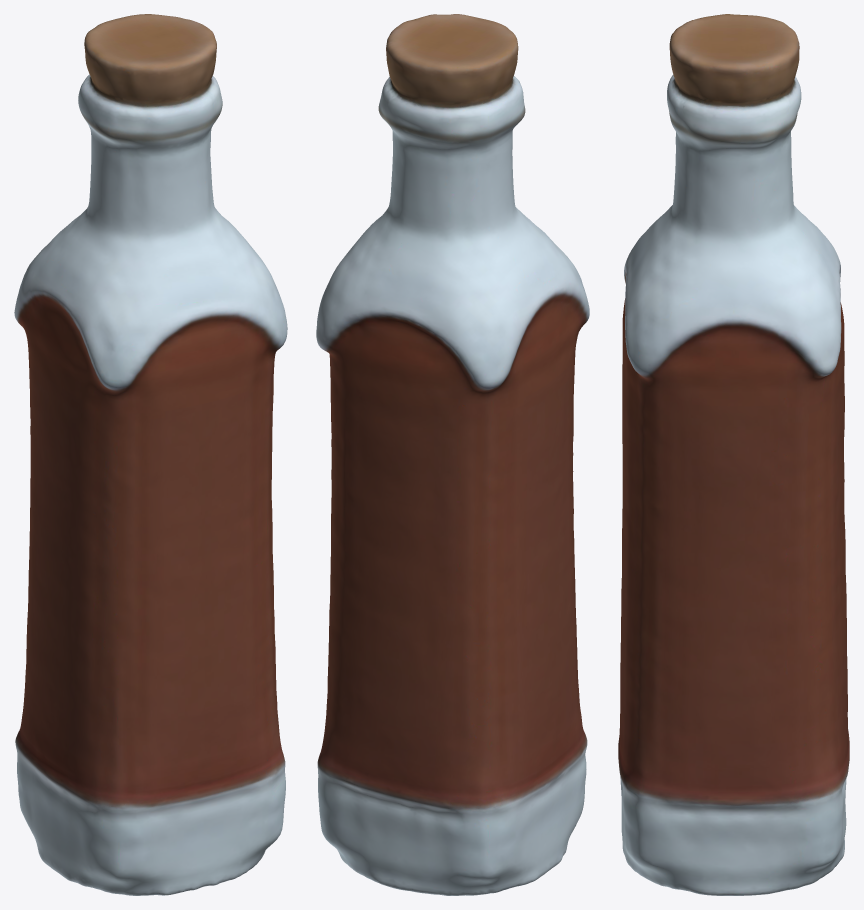
The model's file is luma-glass-bottle-8.glb.
3 views of the same model, side by side, from view 1: azimuth 30°, elevation 25°; view 2: azimuth 150°, elevation 25°; view 3: azimuth 270°, elevation 25° (orthographic).
Visible parts, largest first — view 1: world; view 2: world; view 3: world.
Boxes of the visible parts, <box> form: world: <box>14,14,287,895</box>; world: <box>316,14,589,895</box>; world: <box>618,14,849,895</box>.
Size of the model in its own units: 0.1522 by 0.5804 by 0.15.
1 material, 1 textured.
